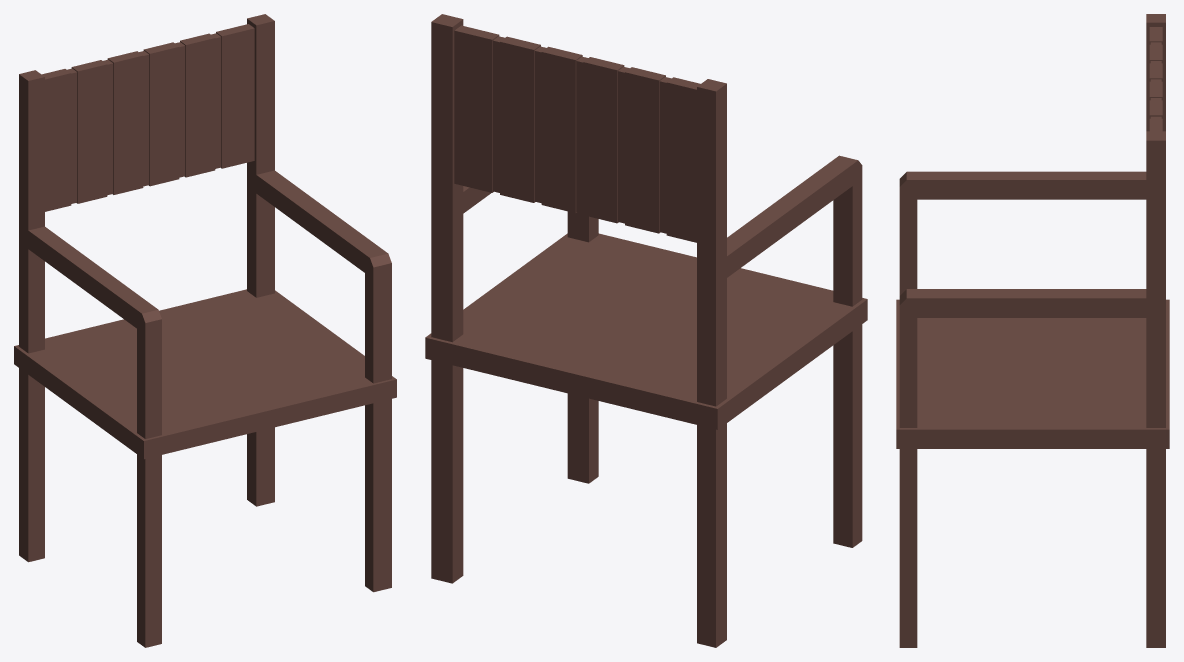
File: Garden Chair.glb
3 renders of one model, left to right at view 1: azimuth 30°, elevation 25°; view 2: azimuth 150°, elevation 25°; view 3: azimuth 270°, elevation 25°, orthographic. The views are drawn at different scales.
Parts seen in each view (by area): view 1: Chair; view 2: Chair; view 3: Chair.
Part boxes in pixels (x1=…): Chair: x1=14, y1=14, x2=396, y2=647; Chair: x1=425, y1=14, x2=867, y2=647; Chair: x1=896, y1=14, x2=1169, y2=647.
Bounding box in the file's own units: 0.6111 × 1.11 × 0.5432.
1 material, 1 textured.
